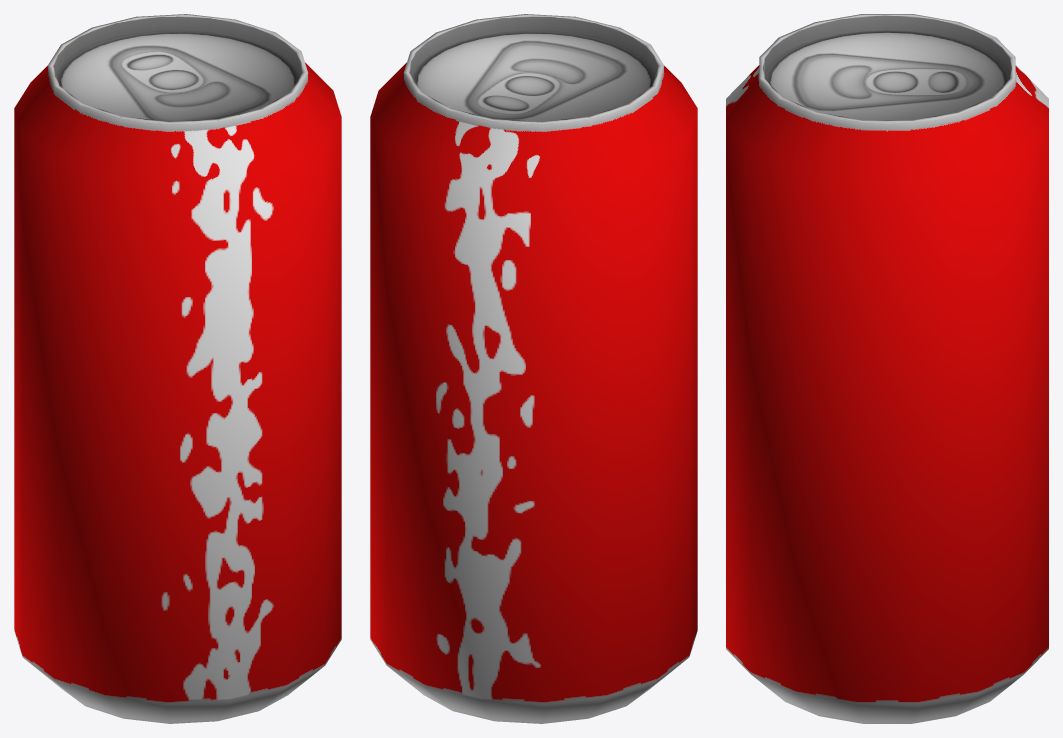
The model's file is sodared.glb.
3 views of the same model, side by side, from view 1: azimuth 30°, elevation 25°; view 2: azimuth 150°, elevation 25°; view 3: azimuth 270°, elevation 25° (orthographic).
Visible parts, largest first — view 1: sodared; view 2: sodared; view 3: sodared.
Part boxes in pixels (<box>): sodared: <box>14,14,341,723</box>; sodared: <box>370,14,697,723</box>; sodared: <box>726,14,1048,723</box>.
Size of the model in its own units: 0.5842 by 1.21 by 0.5842.
1 material, 1 textured.
